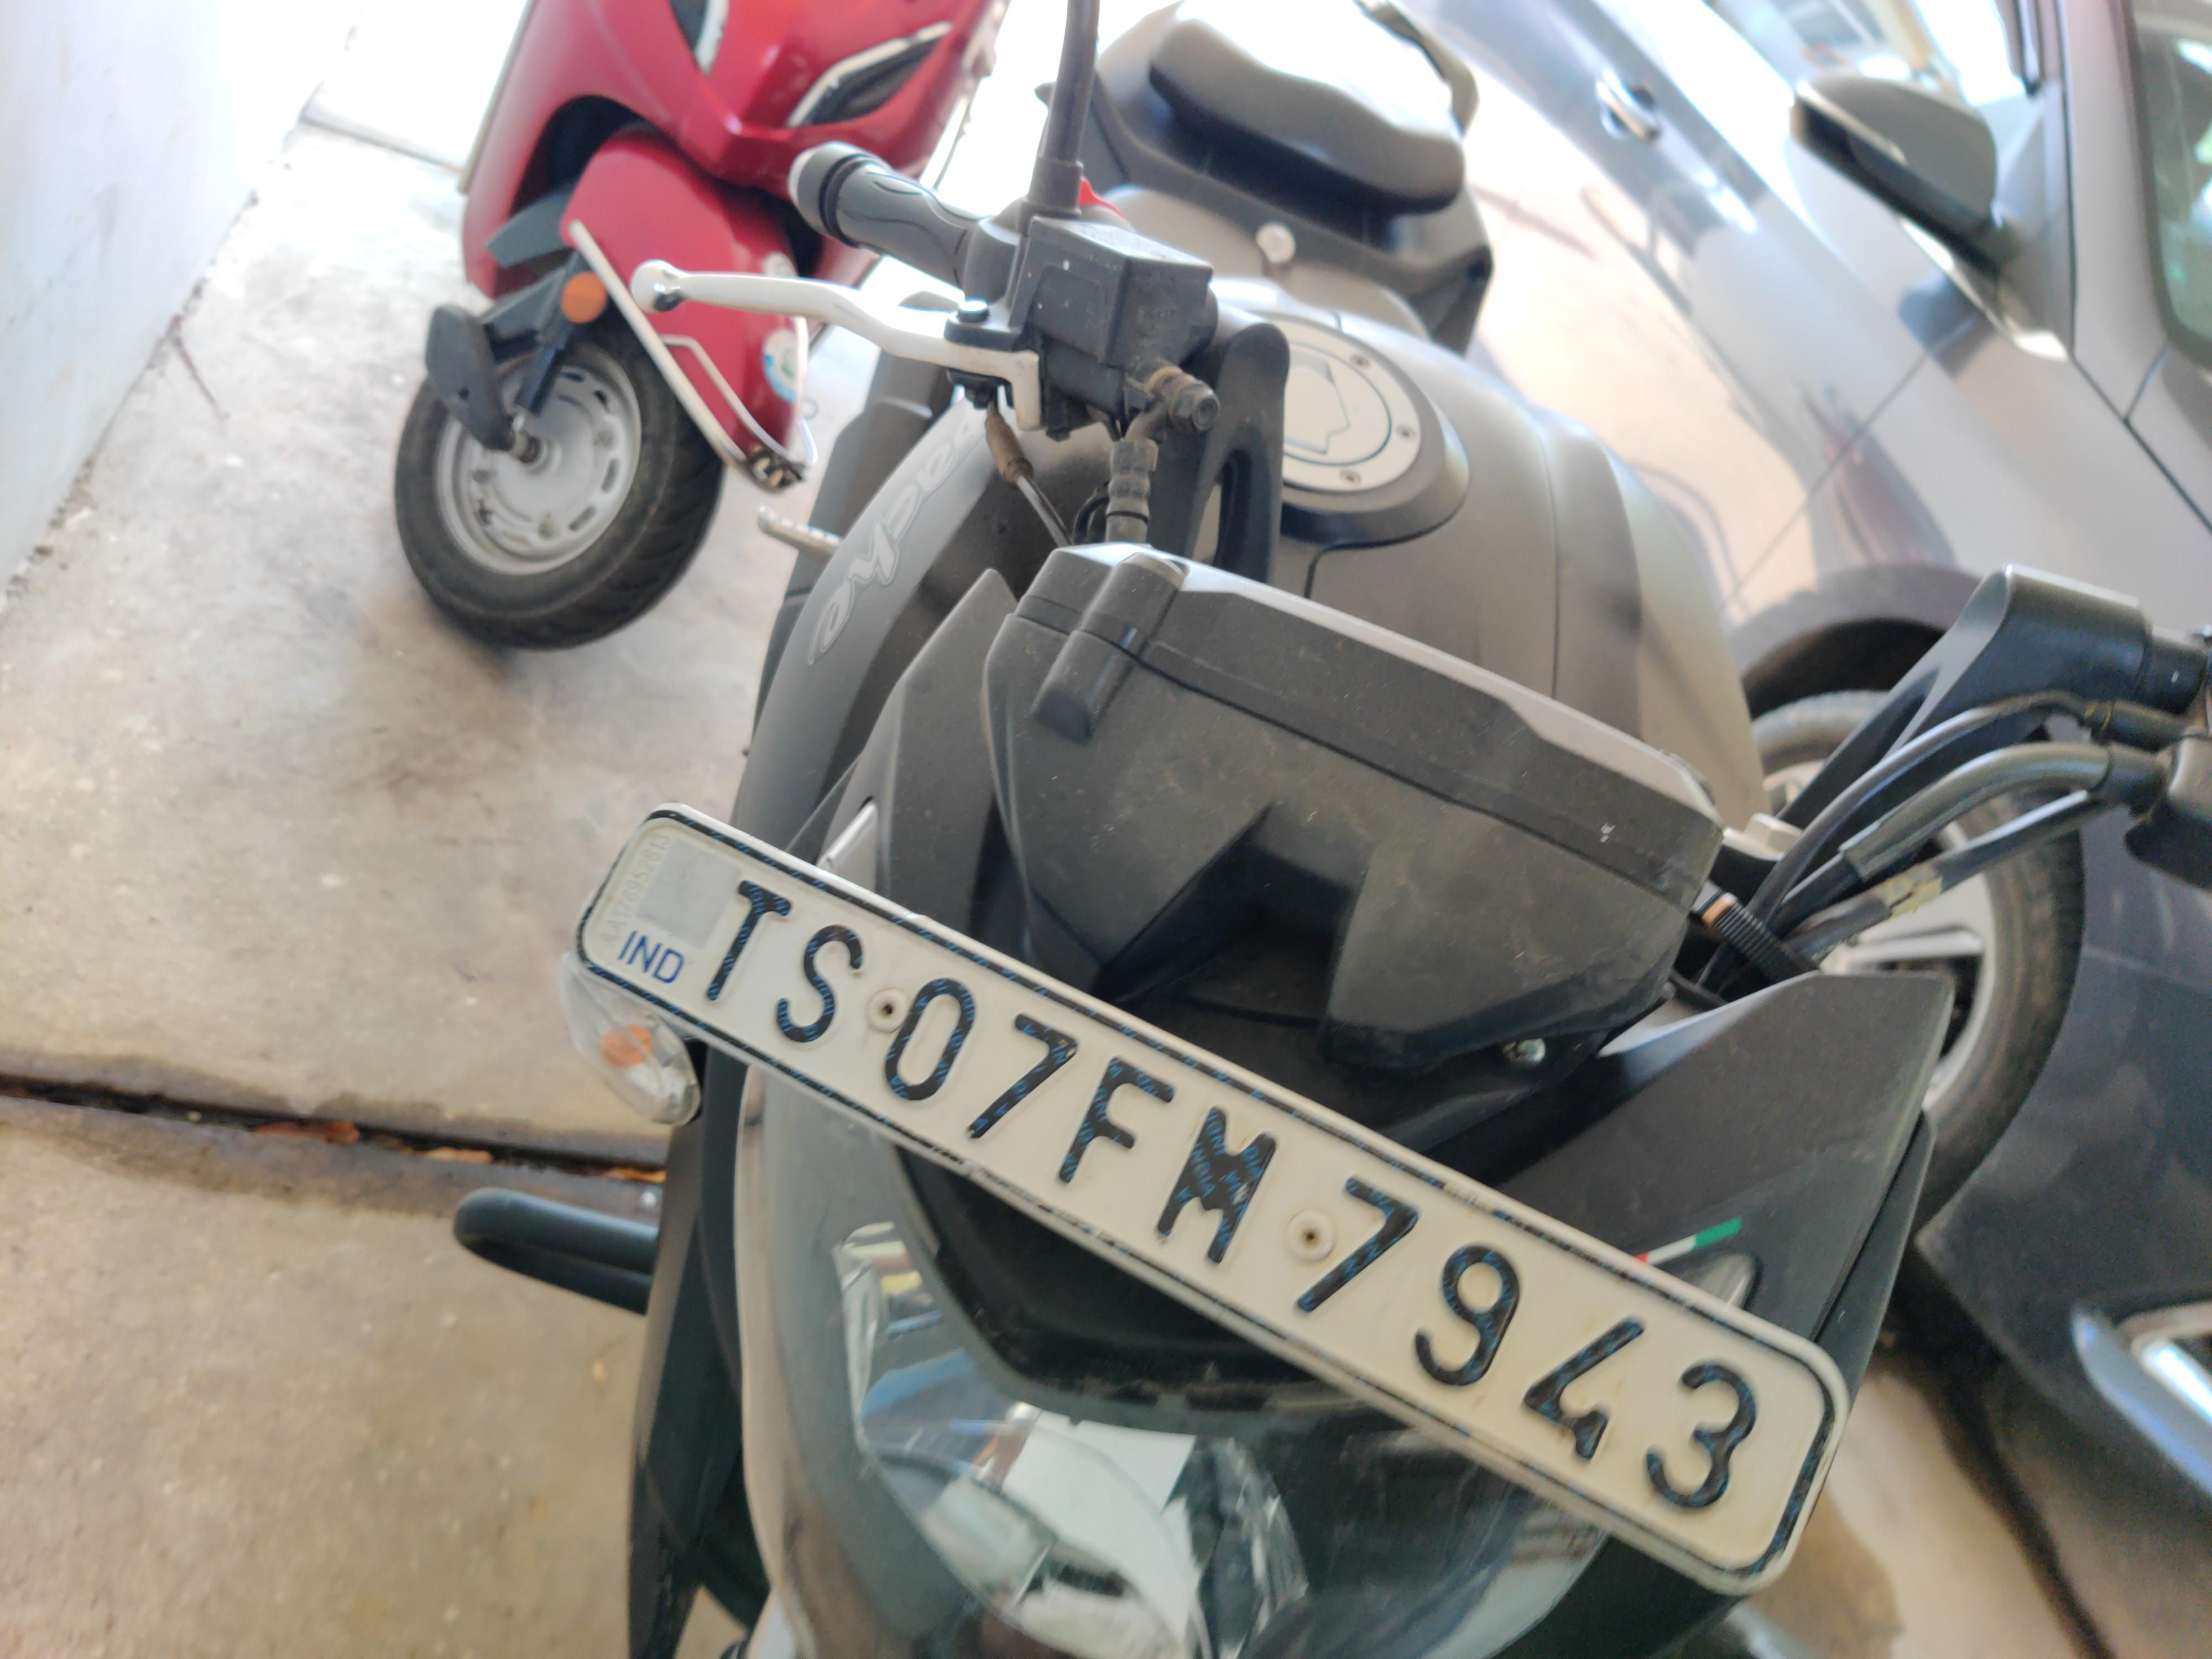plate: (549, 790, 1866, 1615)
